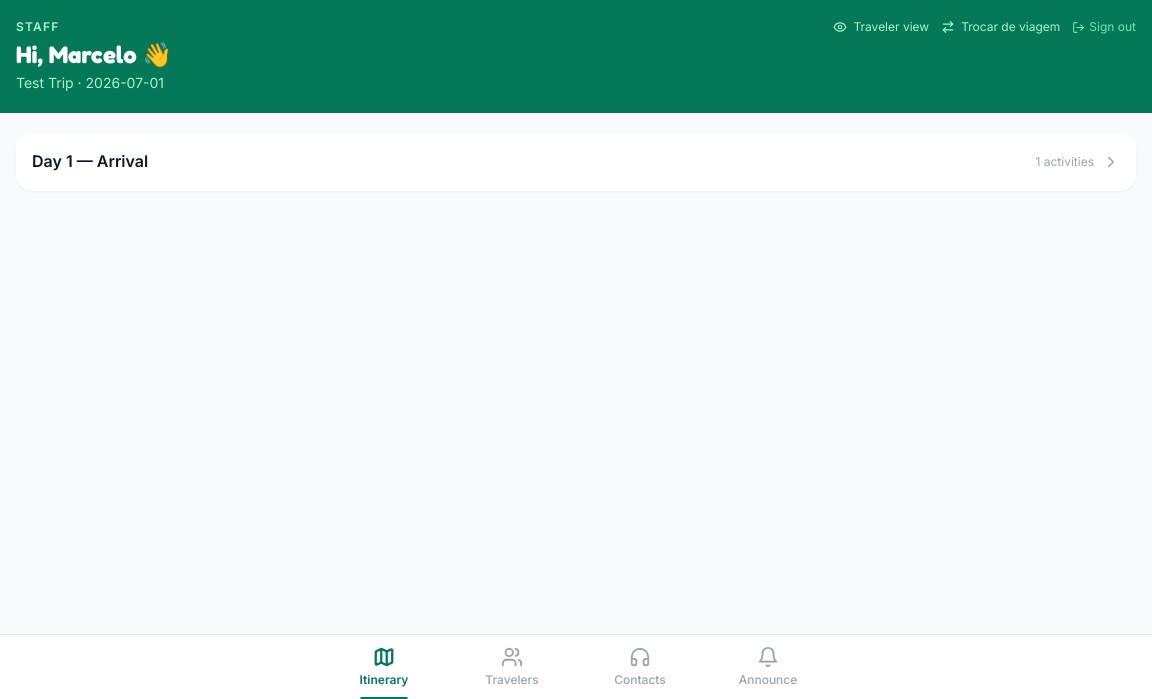
Scenario: StaffScreen › scans with the camera only when asked and confirms before check-in
Click the text "Day 1 — Arrival" at (90, 161), box [32,149,148,173]
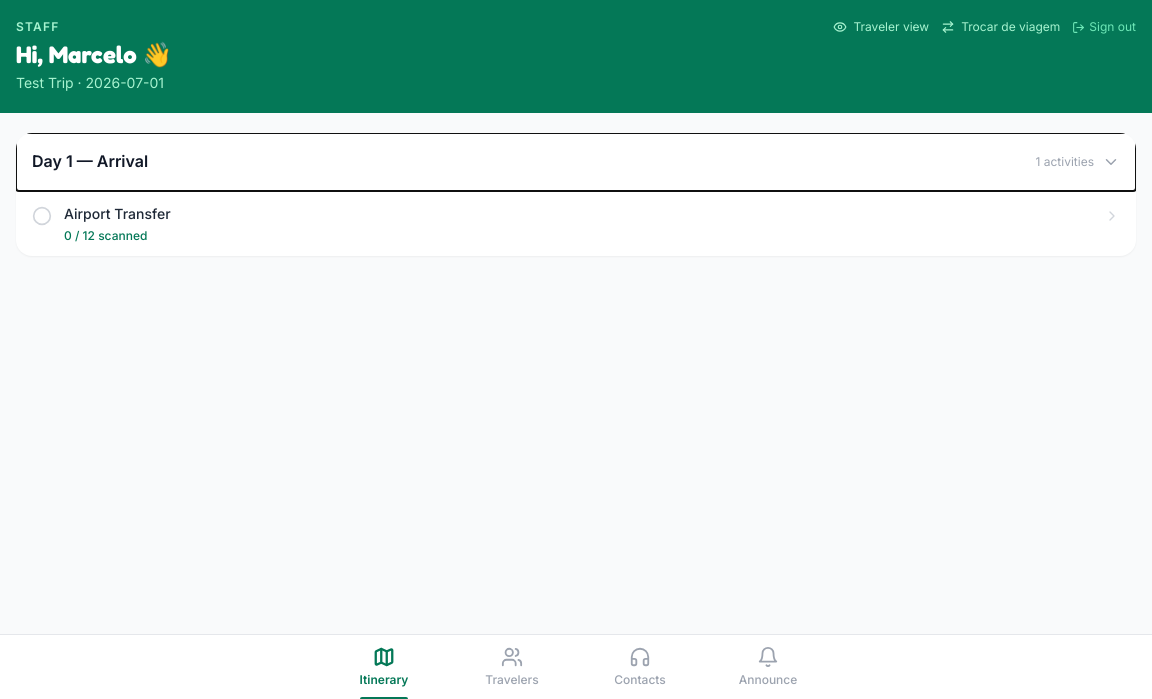
Click the text "Airport Transfer" at (117, 214), box [64,205,171,222]
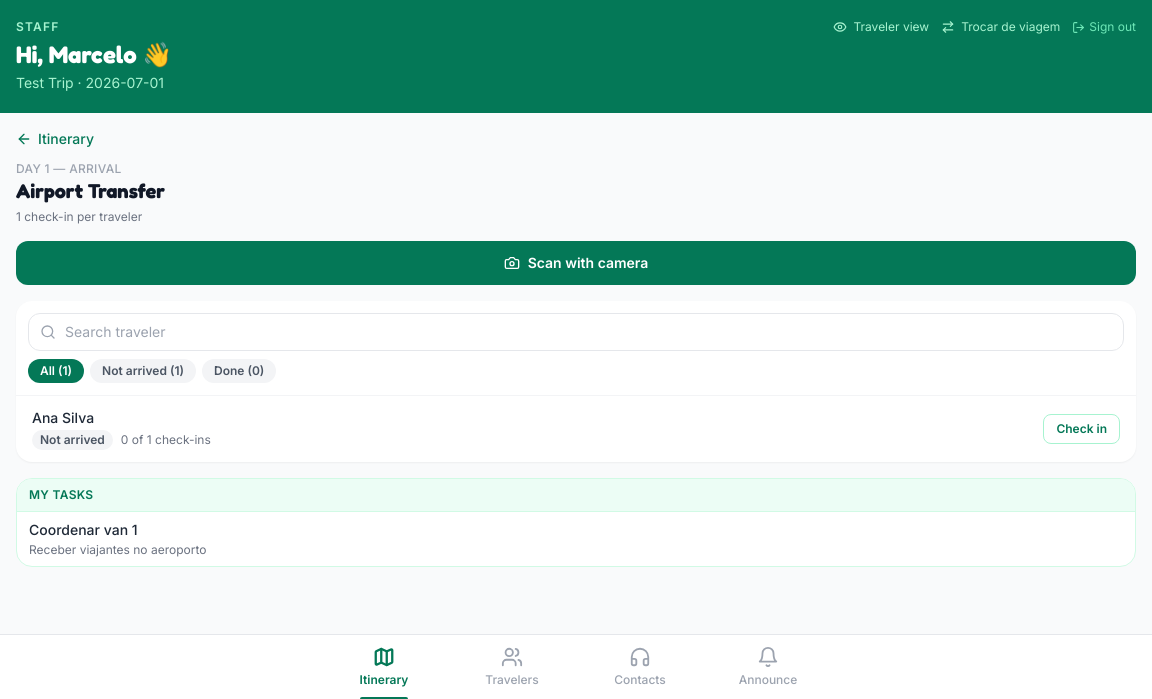
Now the heading "Airport Transfer" is shown, box [16,179,165,203]
Click the button "Scan with camera" at (576, 263), box [16,241,1136,285]
(page scrolled)
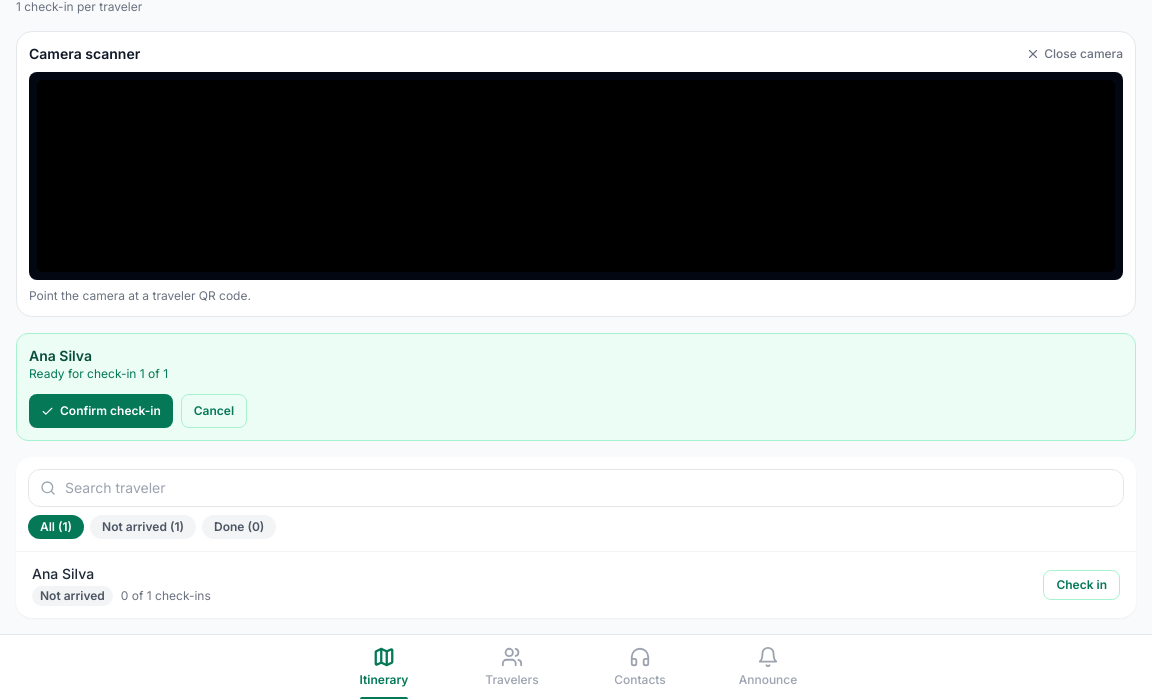
Now the button "Confirm check-in" is shown
Click the button "Confirm check-in" at (101, 411), box [29,394,173,428]
(page scrolled)
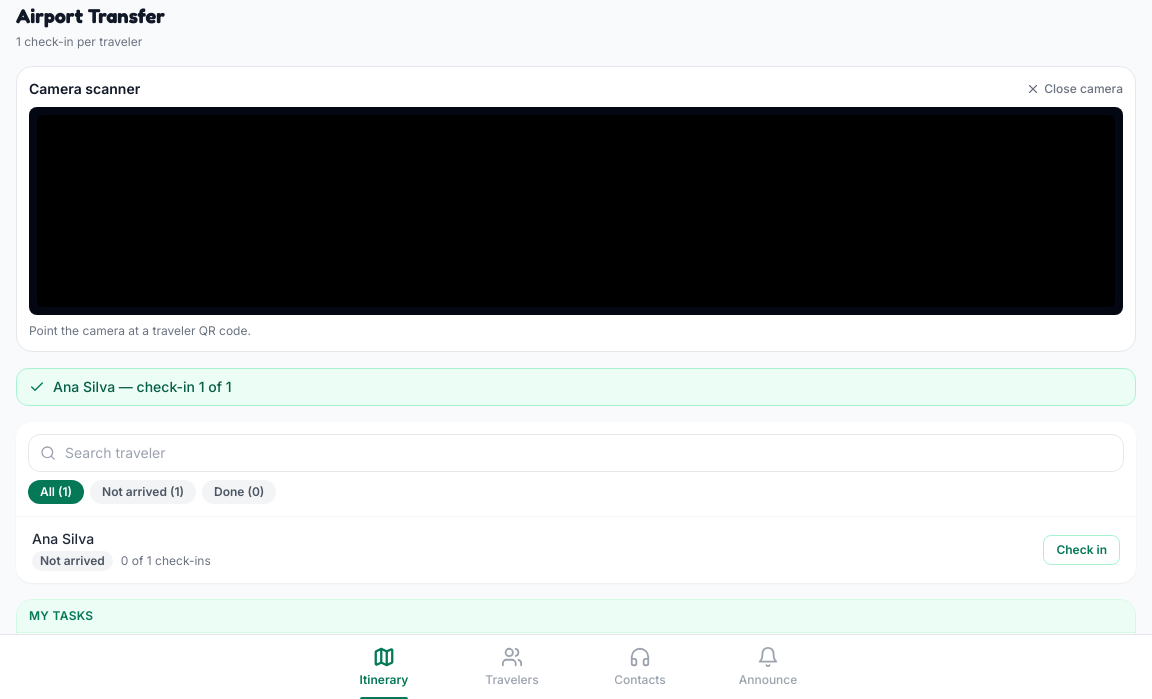
Now the text "Ana Silva — check-in 1 of 1" is shown, box [53,377,232,397]
